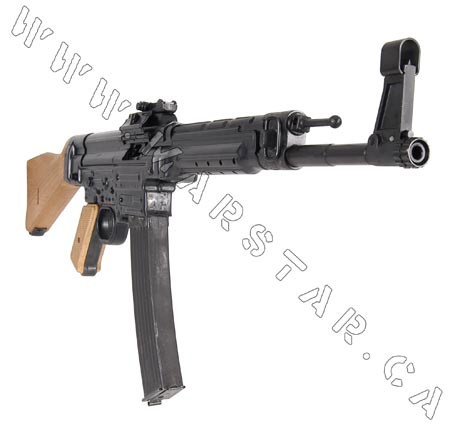rifle: (26, 38, 439, 347)
